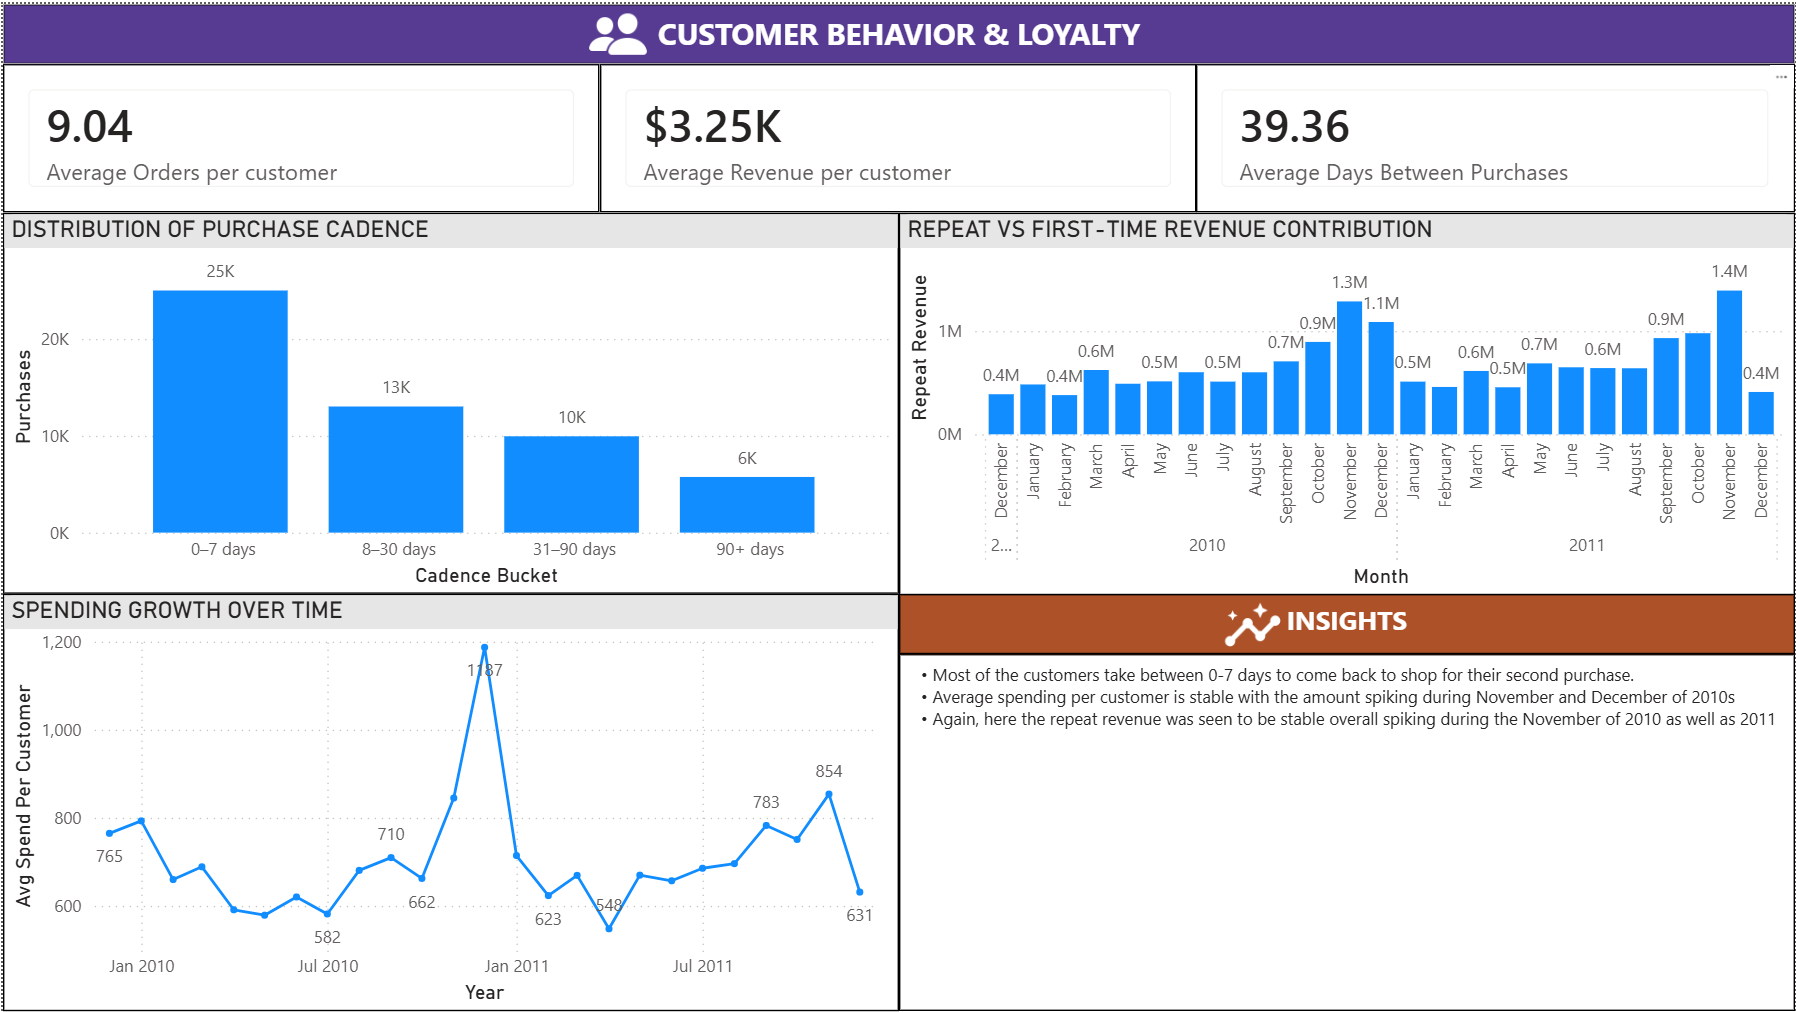

The page's visual inventory and layout, read from the dashboard file:
{"tool":"powerbi","page":{"name":"Customer Behavior and Loyalty","canvas":[1280,720],"ordinal":1},"visuals":[{"type":"cardVisual","fields":{"Data":["customer_summary.Average Orders per customer"]},"box":[0,43.1,426.2,106.2],"z":0},{"type":"cardVisual","fields":{"Data":["customer_summary.Average Revenue per customer"]},"box":[426.2,43.1,426.2,106.2],"z":1000},{"type":"cardVisual","fields":{"Data":["Avg(invoice_summary.Purchase Cadence (Days))"]},"box":[852.3,43.1,427.7,106.2],"z":2000},{"type":"textbox","box":[0,0,1280,43],"z":3000},{"type":"columnChart","title":"DISTRIBUTION  OF PURCHASE CADENCE","fields":{"Y":["CountNonNull(invoice_summary.invoice_id)"],"Category":["invoice_summary.Cadence Bucket"]},"box":[0,149.2,640,272.3],"z":4000},{"type":"lineChart","title":"SPENDING GROWTH OVER TIME","fields":{"Category":["Date.Date.Variation.Date Hierarchy.Year","Date.Date.Variation.Date Hierarchy.Month"],"Y":["customer_month_summary.Avg Spend Per Customer"]},"box":[0,421.8,640,298.2],"z":5000},{"type":"columnChart","title":"REPEAT VS FIRST-TIME REVENUE CONTRIBUTION","fields":{"Y":["invoice_summary.Repeat Revenue"],"Category":["Date.Date.Variation.Date Hierarchy.Year","Date.Date.Variation.Date Hierarchy.Month"]},"box":[640,149.2,640,273.1],"z":6000},{"type":"textbox","box":[640,464.6,640,255.4],"z":6001},{"type":"textbox","box":[640,421.5,640,43.1],"z":6002},{"type":"image","box":[409.2,0,60,43.1],"z":6003},{"type":"image","box":[867.1,422.1,50.7,43.6],"z":6004}]}

Visuals, with their boxes in screenshot pixels (x1, y1, x2, y2), scaled from the page's 1280x720 canvas onto the 1796x1012 screenshot:
cardVisual - customer_summary.Average Orders per customer: detection(0, 61, 598, 210)
cardVisual - customer_summary.Average Revenue per customer: detection(598, 61, 1196, 210)
cardVisual - Avg(invoice_summary.Purchase Cadence (Days)): detection(1196, 61, 1795, 210)
textbox: detection(0, 0, 1795, 60)
"DISTRIBUTION  OF PURCHASE CADENCE" columnChart: detection(0, 210, 898, 592)
"SPENDING GROWTH OVER TIME" lineChart: detection(0, 593, 898, 1011)
"REPEAT VS FIRST-TIME REVENUE CONTRIBUTION" columnChart: detection(898, 210, 1795, 594)
textbox: detection(898, 653, 1795, 1011)
textbox: detection(898, 592, 1795, 653)
image: detection(574, 0, 658, 61)
image: detection(1217, 593, 1288, 655)
